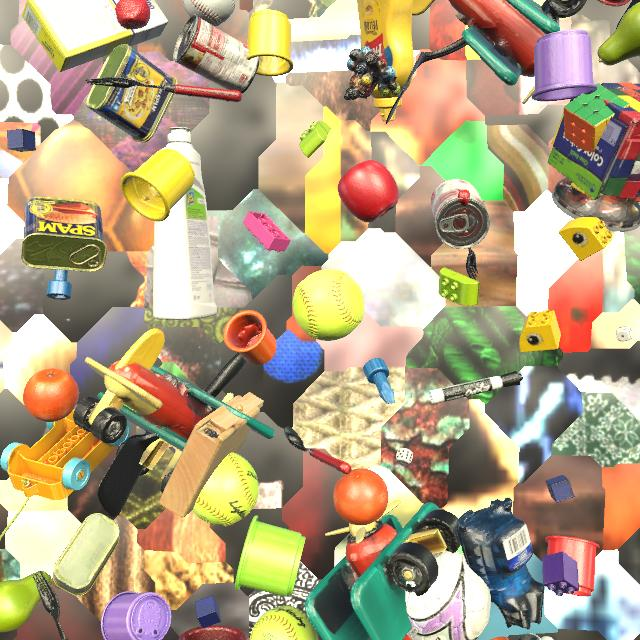ycb_004_sugar_box: (22, 0, 168, 72)
ycb_005_tomato_soup_can: (173, 15, 260, 94), (431, 179, 490, 249)
ycb_006_mustard_bottle: (357, 0, 414, 121)
ycb_010_potted_meat_can: (86, 44, 178, 143), (21, 196, 107, 272), (53, 513, 120, 596)
ycb_012_strawberry: (115, 0, 150, 30)
ycb_013_apple: (338, 160, 399, 223)
ycb_016_pear: (0, 571, 52, 632), (597, 2, 640, 66)
ycb_017_orange: (333, 468, 388, 526), (23, 368, 79, 422)
